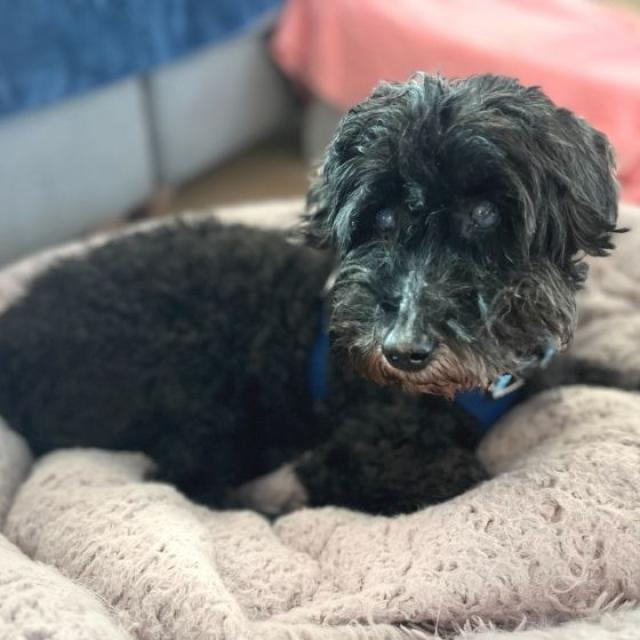Poodle_dog: (281, 55, 634, 416)
